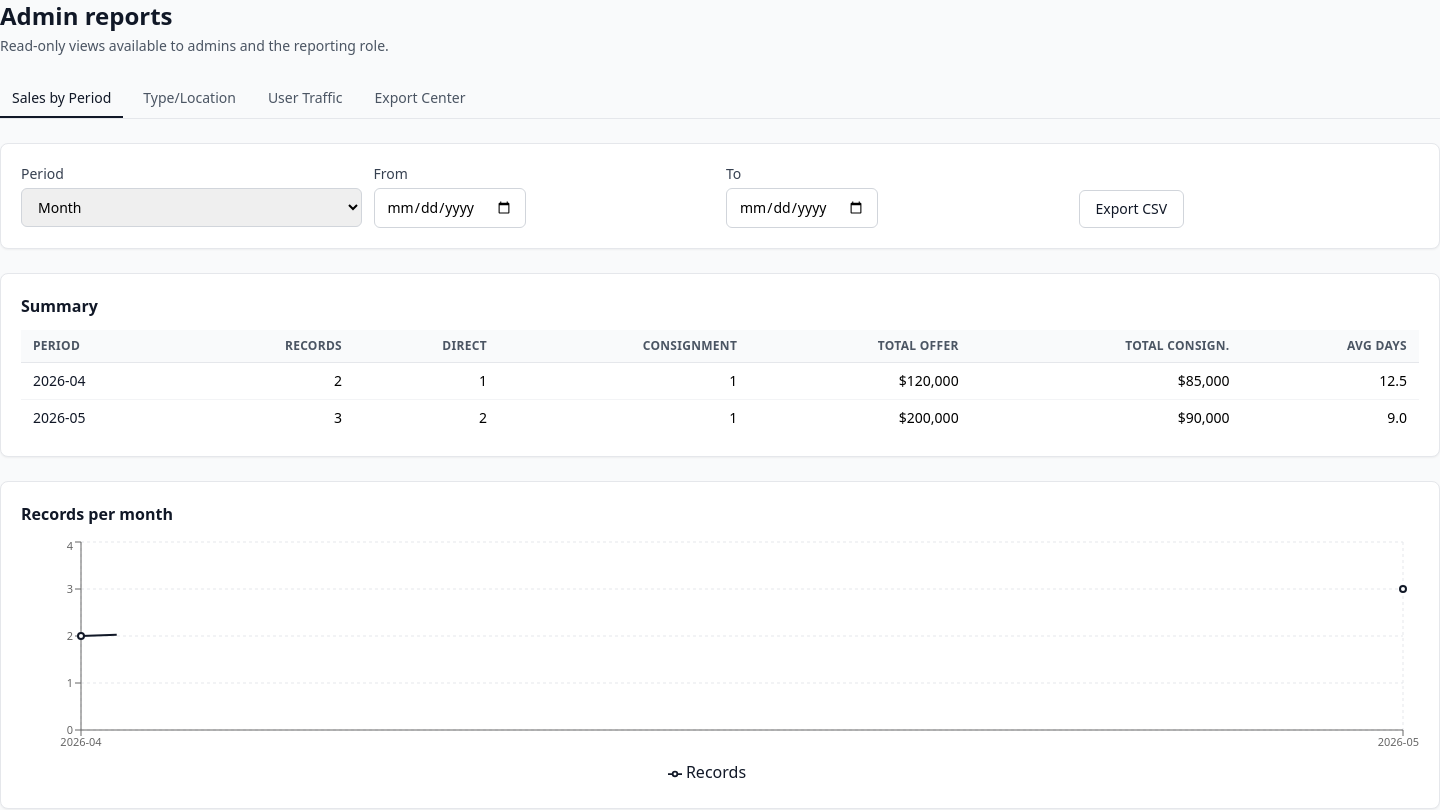
it: AdminReportsPage › Type/Location tab sub-view switcher renders By state table on click
Click the tab "Type/Location".
click(190, 99)  # box [131,80,248,118]
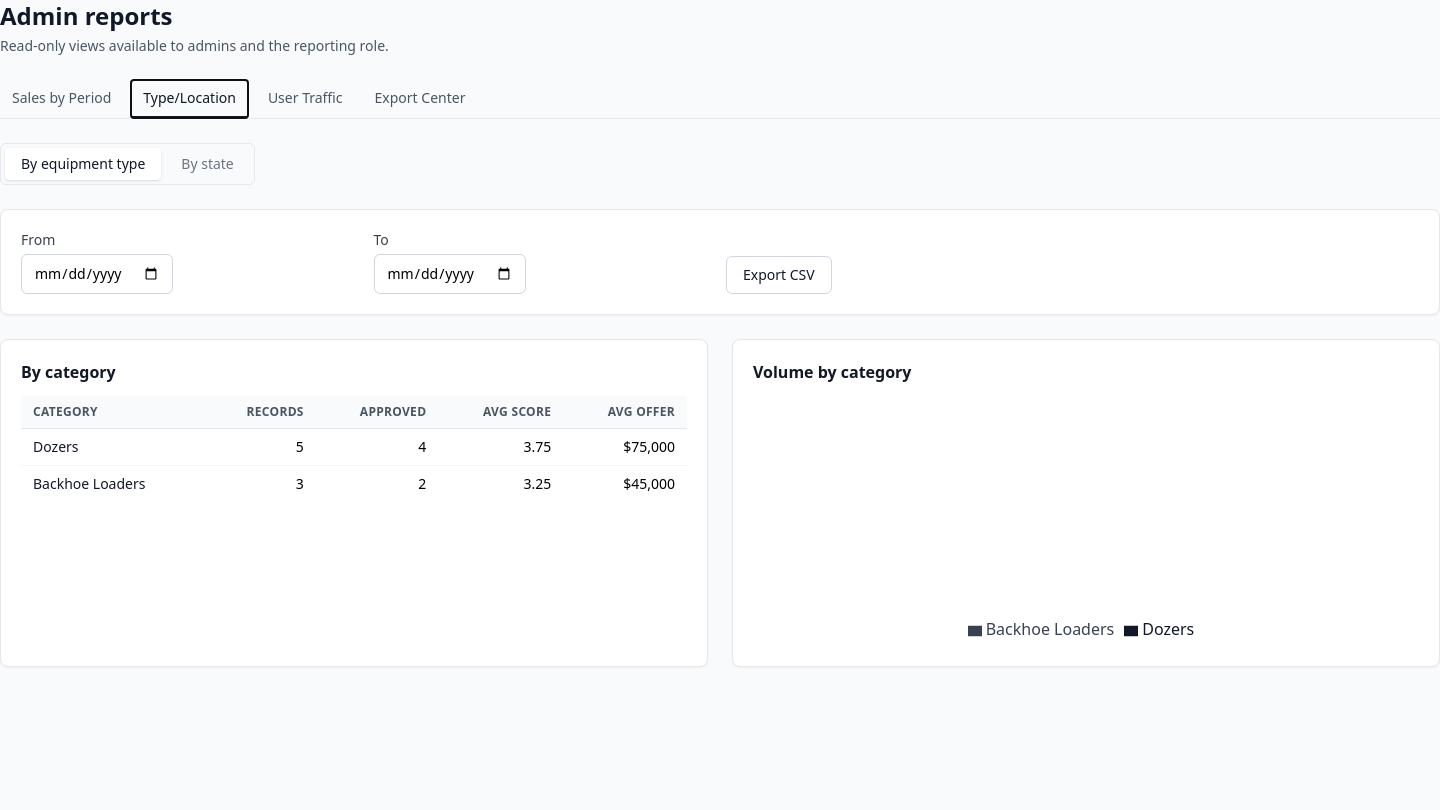
Now the text "Dozers" is shown, box [21,428,206,466]
Click the tab "By state".
click(208, 164)  # box [165,148,250,180]
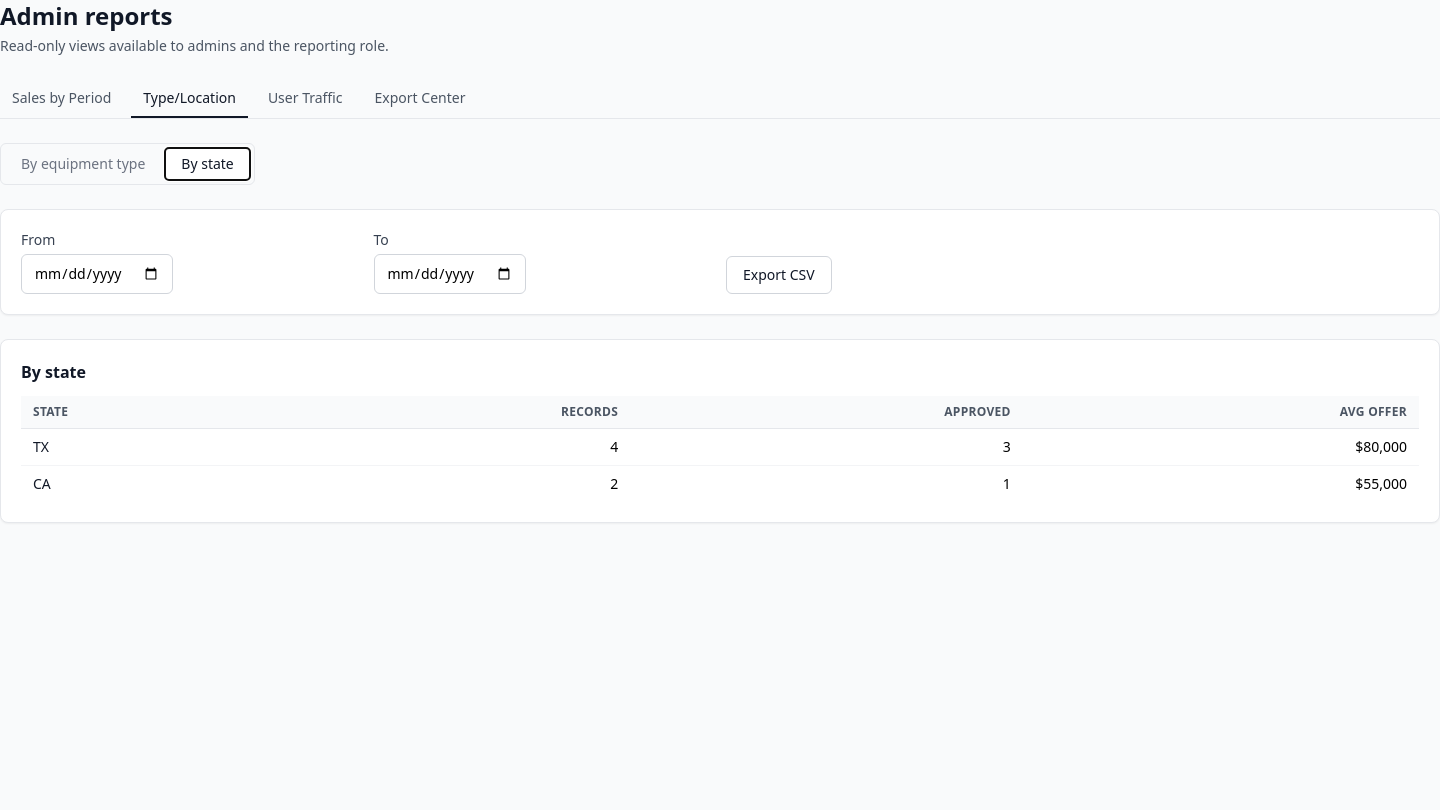
Now the text "CA" is shown, box [21,466,278,502]
Now the text "TX" is shown, box [21,428,278,466]
